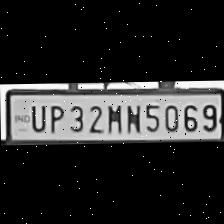0: (159, 99, 179, 130)
2: (84, 100, 104, 132)
3: (64, 100, 84, 132)
5: (140, 100, 160, 132)
6: (178, 100, 198, 132)
9: (197, 100, 217, 132)
M: (103, 100, 123, 132)
N: (122, 99, 142, 132)
P: (45, 100, 65, 132)
U: (26, 100, 46, 131)
